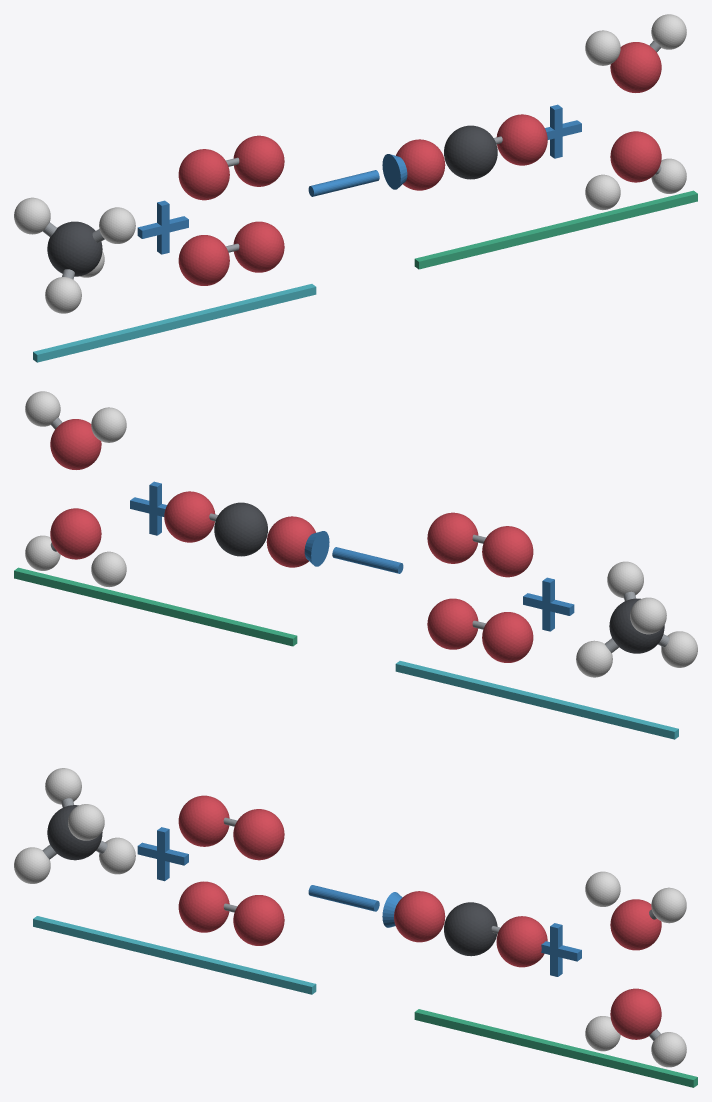
The model's file is 02-reagentes-produtos.glb.
The picture shows the model from 3 angles, top to bottom: view 1: azimuth 30°, elevation 25°; view 2: azimuth 150°, elevation 25°; view 3: azimuth 330°, elevation 25°; orthographic projection.
Visible parts, largest first — view 1: world, CO2_C, CH4_C, O2AO1, WBO, O2BO1, O2BO2, CO2_O2, O2AO2, WAO, CO2_O1, CH4_H0 (+7 smaller); view 2: world, CO2_C, O2AO1, WBO, O2BO1, O2BO2, CO2_O2, O2AO2, WAO, CO2_O1, CH4_C, CH4_H2 (+8 smaller); view 3: world, CO2_C, CO2_O1, O2AO2, O2BO2, WBO, O2AO1, O2BO1, CO2_O2, WAO, CH4_C, CH4_H0 (+8 smaller).
Part boxes in pixels (left/top/right/bottom): world: left=33, top=104, right=697, bottom=362; CO2_C: left=444, top=125, right=497, bottom=179; CH4_C: left=47, top=221, right=102, bottom=276; O2AO1: left=178, top=149, right=229, bottom=200; WBO: left=610, top=131, right=661, bottom=182; O2BO1: left=178, top=235, right=229, bottom=285; O2BO2: left=233, top=221, right=284, bottom=272; CO2_O2: left=496, top=114, right=547, bottom=165; O2AO2: left=233, top=135, right=284, bottom=186; WAO: left=610, top=42, right=661, bottom=92; CO2_O1: left=396, top=139, right=445, bottom=190; CH4_H0: left=99, top=207, right=135, bottom=243; world: left=14, top=481, right=678, bottom=739; CO2_C: left=214, top=502, right=267, bottom=556; O2AO1: left=482, top=526, right=533, bottom=577; WBO: left=50, top=508, right=101, bottom=559; O2BO1: left=482, top=612, right=533, bottom=662; O2BO2: left=427, top=598, right=478, bottom=649; CO2_O2: left=164, top=491, right=215, bottom=542; O2AO2: left=427, top=512, right=478, bottom=563; WAO: left=50, top=419, right=101, bottom=469; CO2_O1: left=266, top=516, right=315, bottom=567; CH4_C: left=609, top=598, right=664, bottom=653; CH4_H2: left=630, top=597, right=666, bottom=634; world: left=33, top=827, right=697, bottom=1087; CO2_C: left=444, top=902, right=497, bottom=956; CO2_O1: left=394, top=891, right=445, bottom=942; O2AO2: left=233, top=809, right=284, bottom=860; O2BO2: left=233, top=895, right=284, bottom=945; WBO: left=610, top=988, right=661, bottom=1039; O2AO1: left=178, top=795, right=229, bottom=846; O2BO1: left=178, top=881, right=229, bottom=932; CO2_O2: left=496, top=916, right=547, bottom=967; WAO: left=610, top=899, right=661, bottom=950; CH4_C: left=47, top=805, right=102, bottom=860; CH4_H0: left=68, top=804, right=104, bottom=840.
Size of the model in its own units: 11.65 by 3.2 by 1.51.
